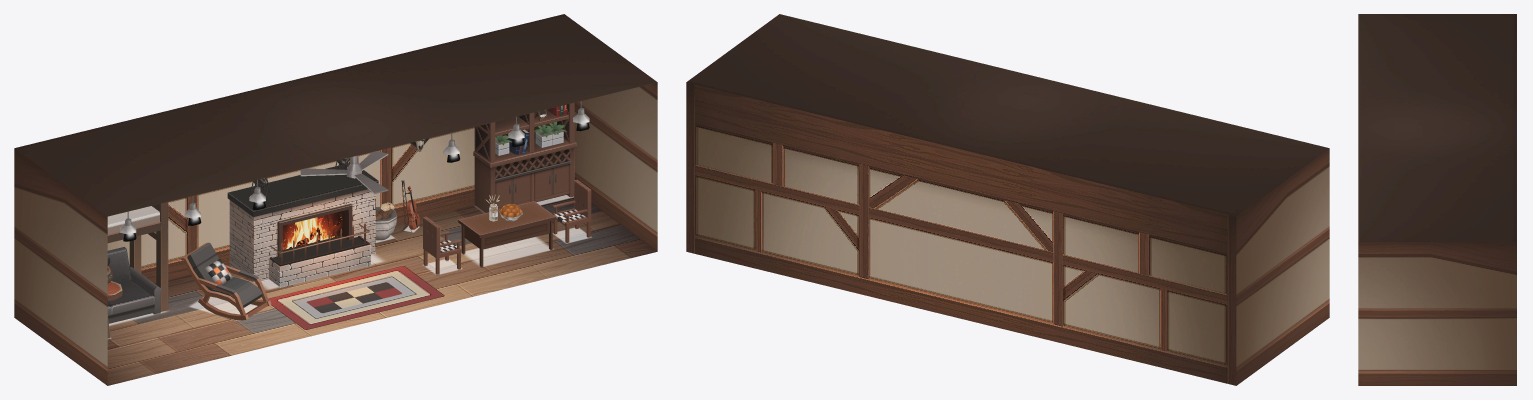
The model's file is wooden.glb.
3 renders of one model, left to right at view 1: azimuth 30°, elevation 25°; view 2: azimuth 150°, elevation 25°; view 3: azimuth 270°, elevation 25°, orthographic. The views are drawn at different scales.
Parts seen in each view (by area): view 1: ROOM_room, ROOM_floor, furni_wooden_fireplace_01, furni_wooden_cabinet_01, furni_wooden_loftBed_01, furni_wooden_carpet_01, furni_wooden_rockingChair_01, furni_wooden_diningTable_01, ROOM_LDoor, ROOM_RDoor, furni_wooden_chair_R_01, shadow.006 (+3 smaller); view 2: ROOM_room, ROOM_LDoor; view 3: ROOM_room, ROOM_RDoor.
Boxes of the visible parts, bbox=[...] form: ROOM_room: bbox=[14, 14, 657, 385]; ROOM_floor: bbox=[107, 195, 657, 385]; furni_wooden_fireplace_01: bbox=[227, 157, 378, 287]; furni_wooden_cabinet_01: bbox=[473, 102, 576, 212]; furni_wooden_loftBed_01: bbox=[107, 202, 168, 339]; furni_wooden_carpet_01: bbox=[268, 266, 444, 329]; furni_wooden_rockingChair_01: bbox=[181, 242, 271, 320]; furni_wooden_diningTable_01: bbox=[458, 201, 555, 267]; ROOM_LDoor: bbox=[74, 285, 93, 375]; ROOM_RDoor: bbox=[625, 151, 643, 241]; furni_wooden_chair_R_01: bbox=[552, 179, 591, 243]; shadow.006: bbox=[462, 237, 553, 266]; ROOM_room: bbox=[686, 14, 1329, 385]; ROOM_LDoor: bbox=[1297, 251, 1315, 341]; ROOM_room: bbox=[1358, 14, 1516, 385]; ROOM_RDoor: bbox=[1381, 320, 1414, 385].
Size of the model in its own units: 7.48 by 2.2 by 2.22.
7 materials, 7 textured.
